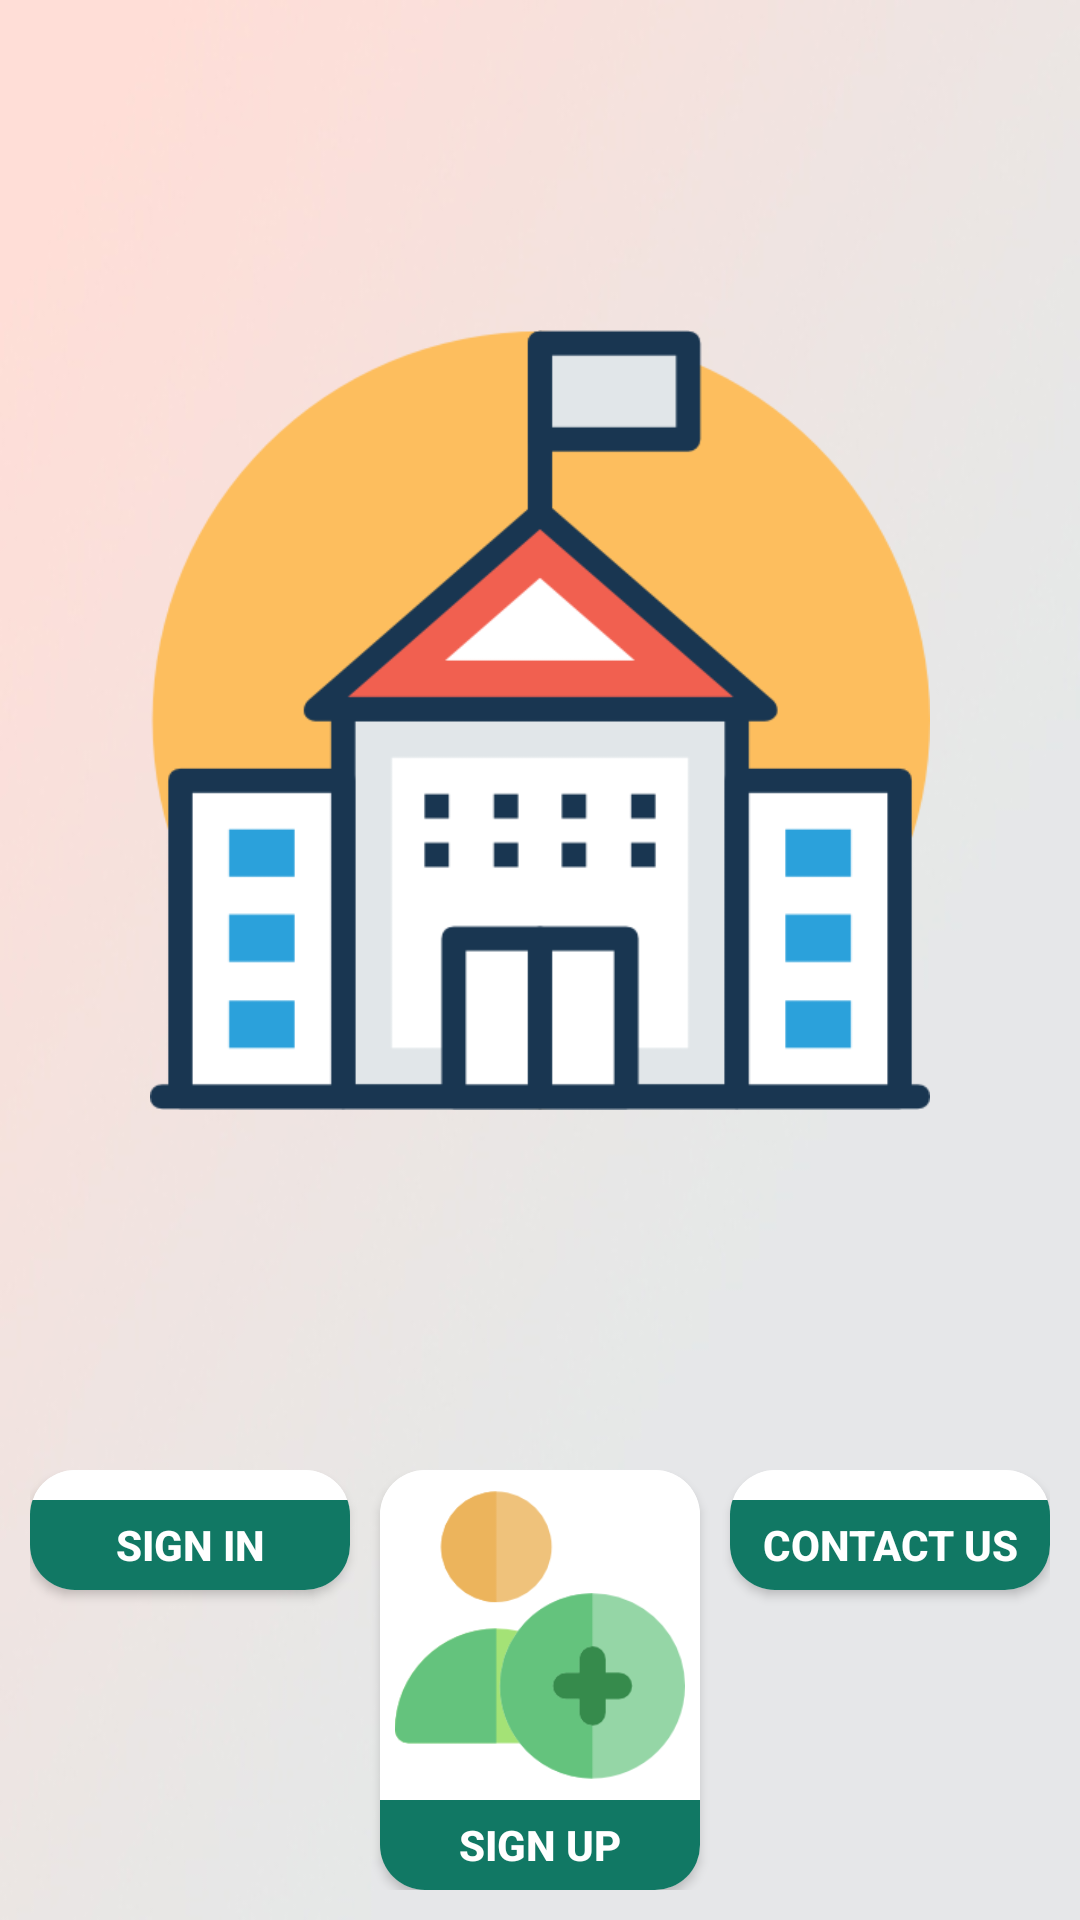

Icons on this 1080 × 1920 Android screen, each with the point to tap as (x,y):
user: (540,1635)
